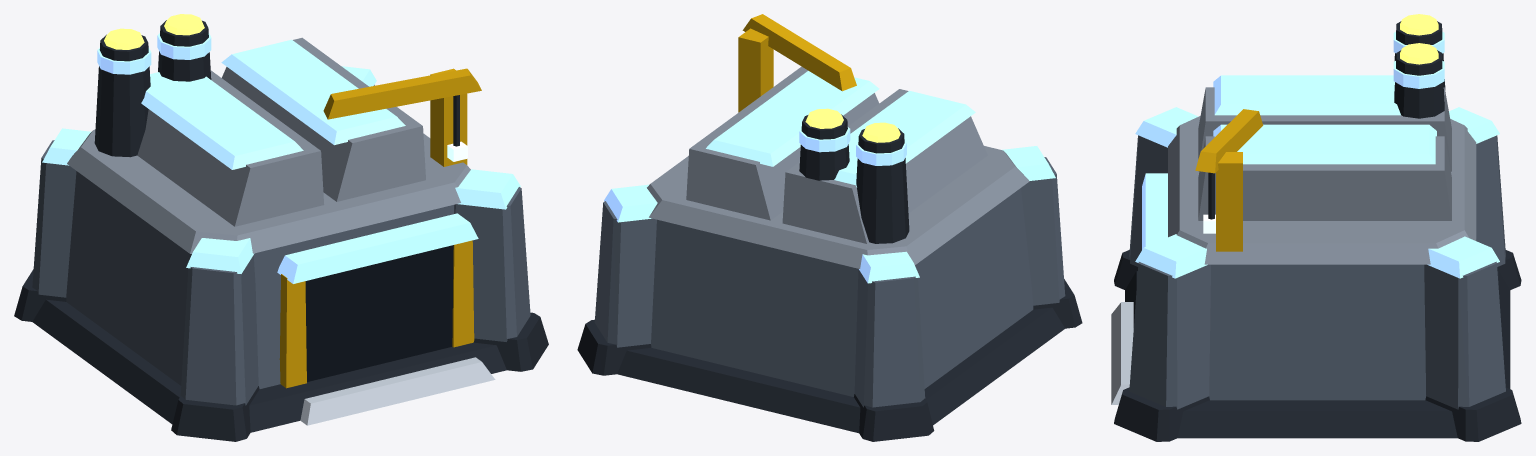
File: workshop.glb
3 views of the same model, side by side, from view 1: azimuth 30°, elevation 25°; view 2: azimuth 150°, elevation 25°; view 3: azimuth 270°, elevation 25° (orthographic). The views are drawn at different scales.
Visible parts, largest first — view 1: Surf_slate, Surf_armor, Surf_TEAM, Surf_dark, Surf_bay, Surf_haz, Surf_light, Surf_forge; view 2: Surf_slate, Surf_armor, Surf_dark, Surf_TEAM, Surf_haz, Surf_forge; view 3: Surf_slate, Surf_armor, Surf_TEAM, Surf_dark, Surf_haz, Surf_light, Surf_forge.
Boxes of the visible parts, x1,y1,x2,y2 form: Surf_slate: [32, 85, 530, 405]; Surf_armor: [67, 37, 470, 253]; Surf_TEAM: [42, 33, 520, 283]; Surf_dark: [14, 20, 548, 441]; Surf_bay: [305, 245, 453, 381]; Surf_haz: [279, 68, 481, 388]; Surf_light: [300, 357, 495, 425]; Surf_forge: [104, 14, 204, 49]; Surf_slate: [594, 157, 1065, 407]; Surf_armor: [647, 66, 1029, 268]; Surf_dark: [577, 114, 1082, 441]; Surf_TEAM: [604, 71, 1055, 283]; Surf_haz: [738, 14, 856, 112]; Surf_forge: [805, 108, 900, 142]; Surf_slate: [1129, 135, 1505, 409]; Surf_armor: [1168, 87, 1476, 264]; Surf_TEAM: [1135, 31, 1499, 278]; Surf_dark: [1114, 21, 1521, 441]; Surf_haz: [1195, 109, 1263, 251]; Surf_light: [1111, 302, 1133, 404]; Surf_forge: [1400, 14, 1438, 64].
Size of the model in its own units: 5.7 by 4.13 by 5.49.
